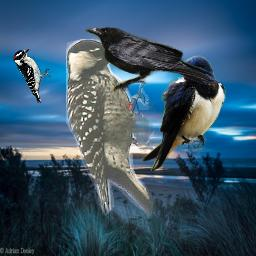Crow: (85, 26, 215, 93)
Swallow: (141, 55, 226, 174)
Woodpecker: (66, 39, 158, 218), (13, 48, 53, 103)
